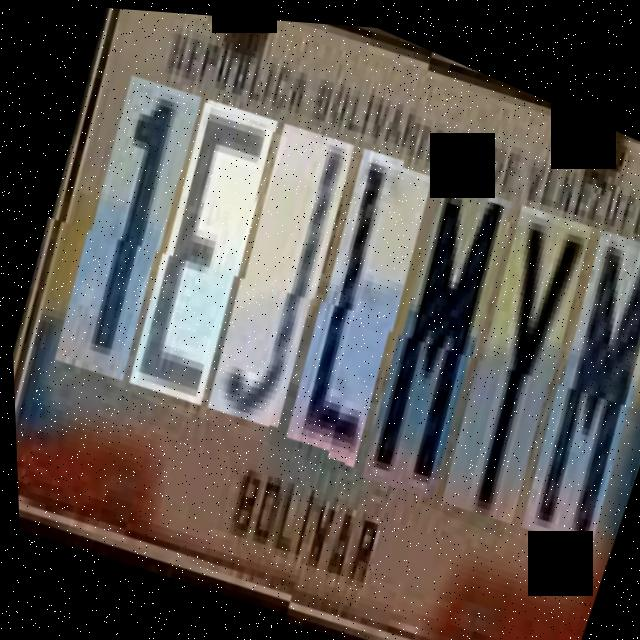1: (23, 68, 219, 399)
E: (99, 93, 294, 423)
J: (175, 117, 371, 448)
L: (251, 142, 451, 480)
M: (328, 168, 530, 513), (486, 218, 640, 561)
Y: (407, 194, 608, 538)
